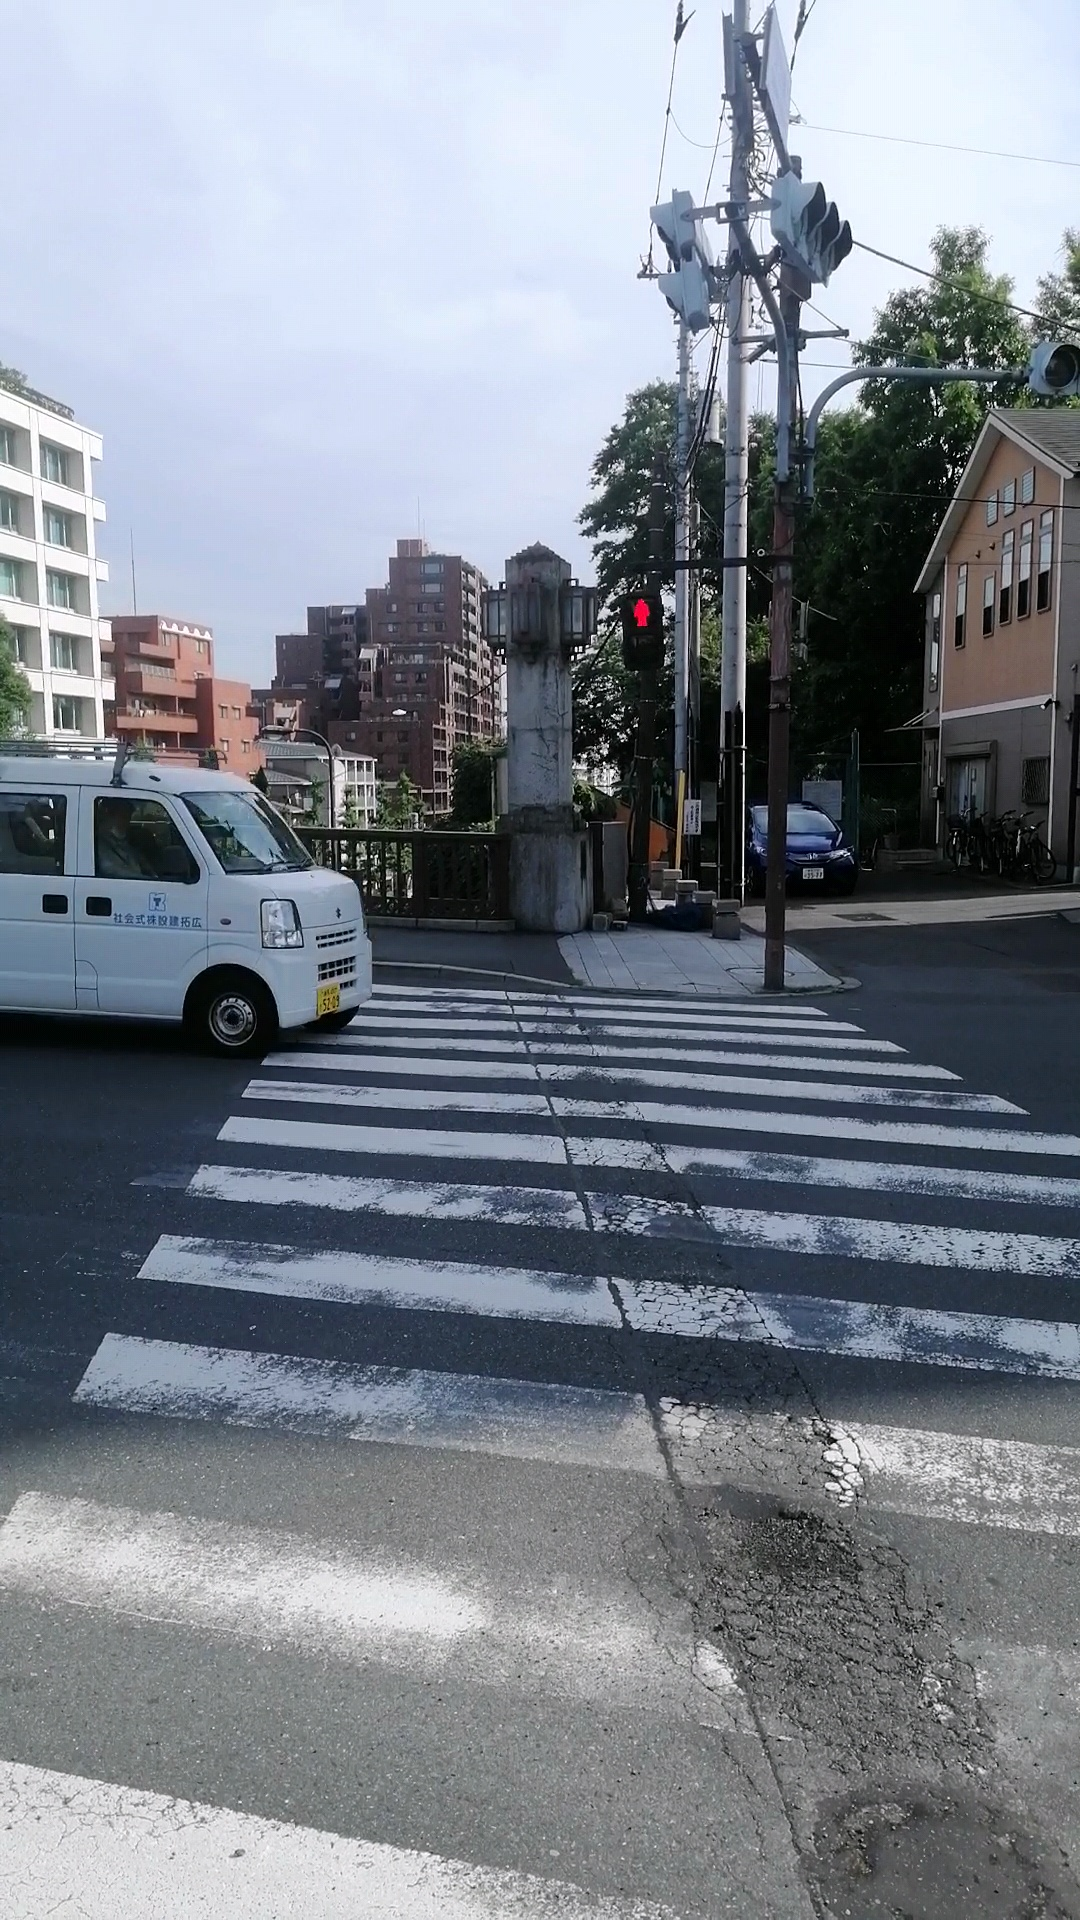red: (622, 593, 659, 669)
